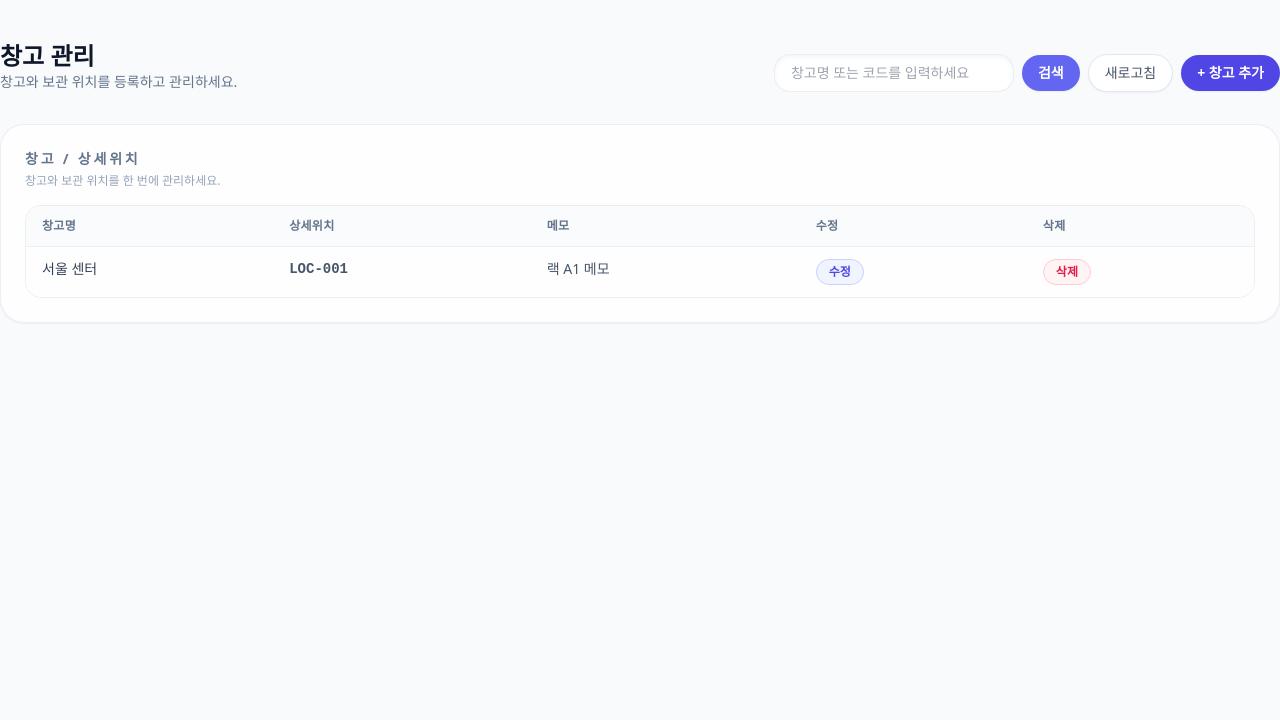
it: WarehouseManagementPanel - 수정 동작 › shows validation errors inline when required fields are cleared
The image size is (1280, 720).
Check: the text "LOC-001" is shown, box [289,261,348,277]
Click the button "수정" at coordinates (840, 272), box [816,259,864,285]
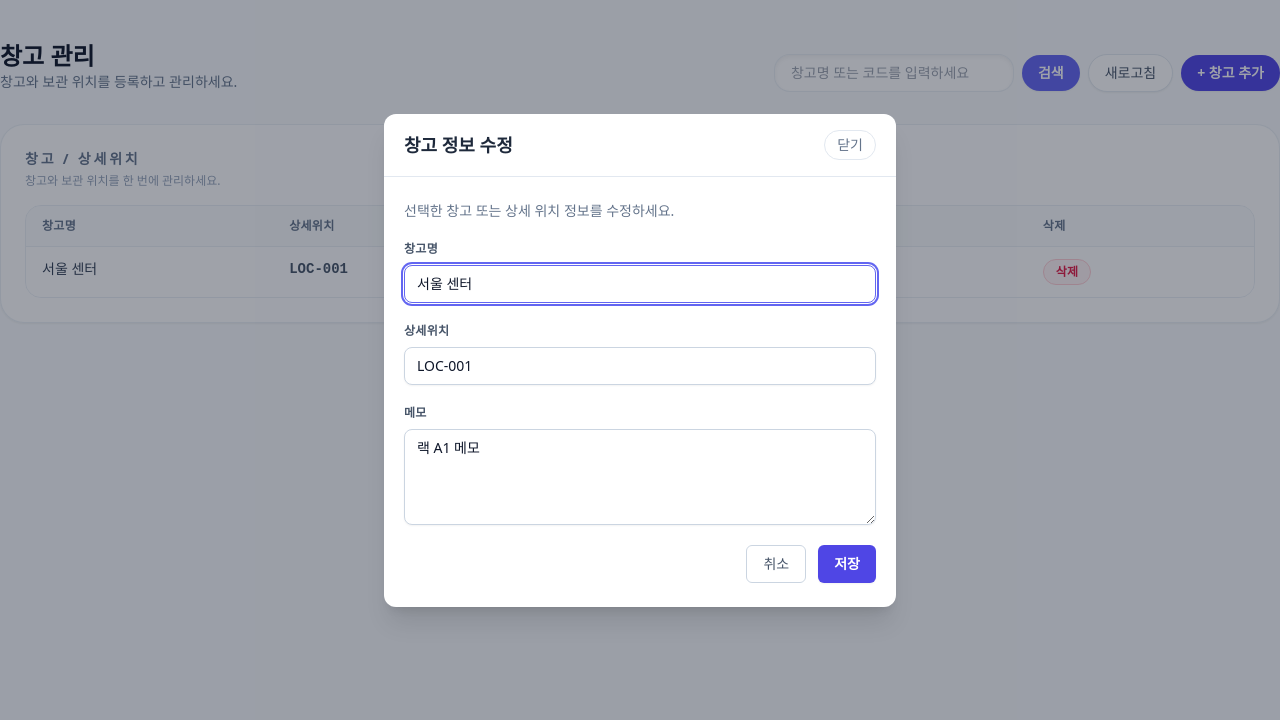
Check: the heading "창고 정보 수정" is shown, box [404,130,513,158]
Clear the text box labelled "메모" at coordinates (640, 476), box [404,428,876,524]
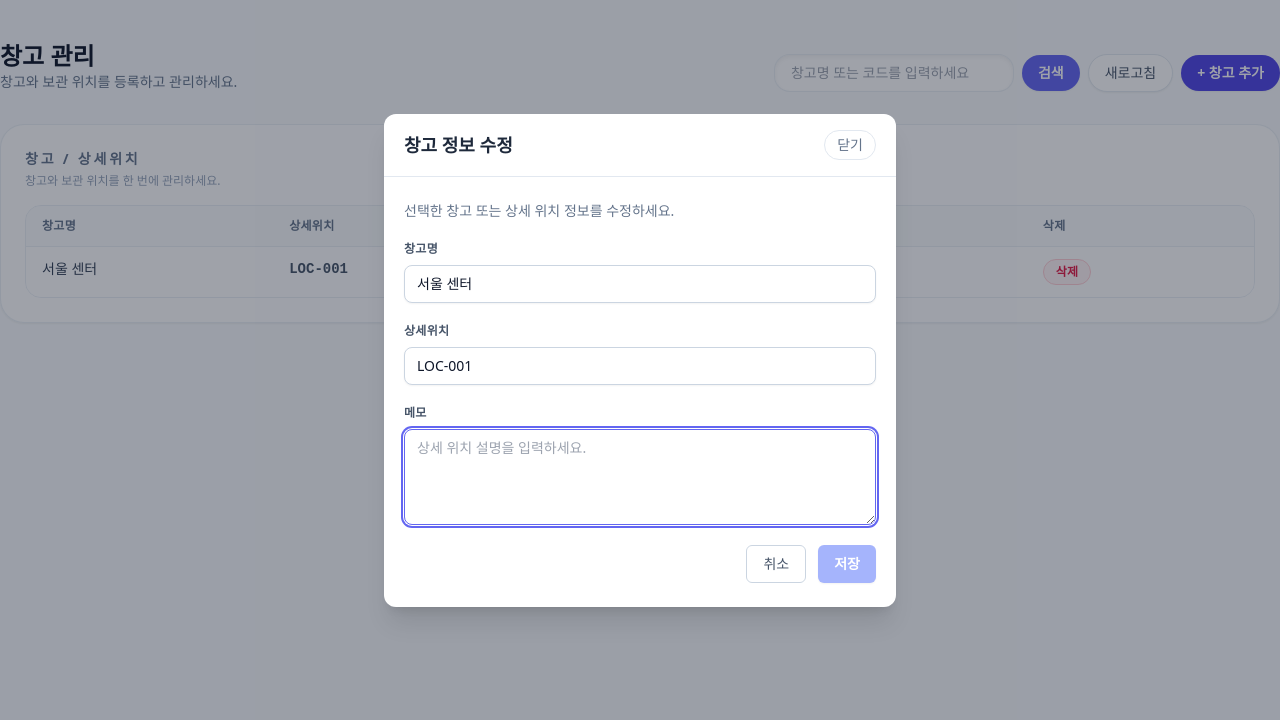
Press Tab
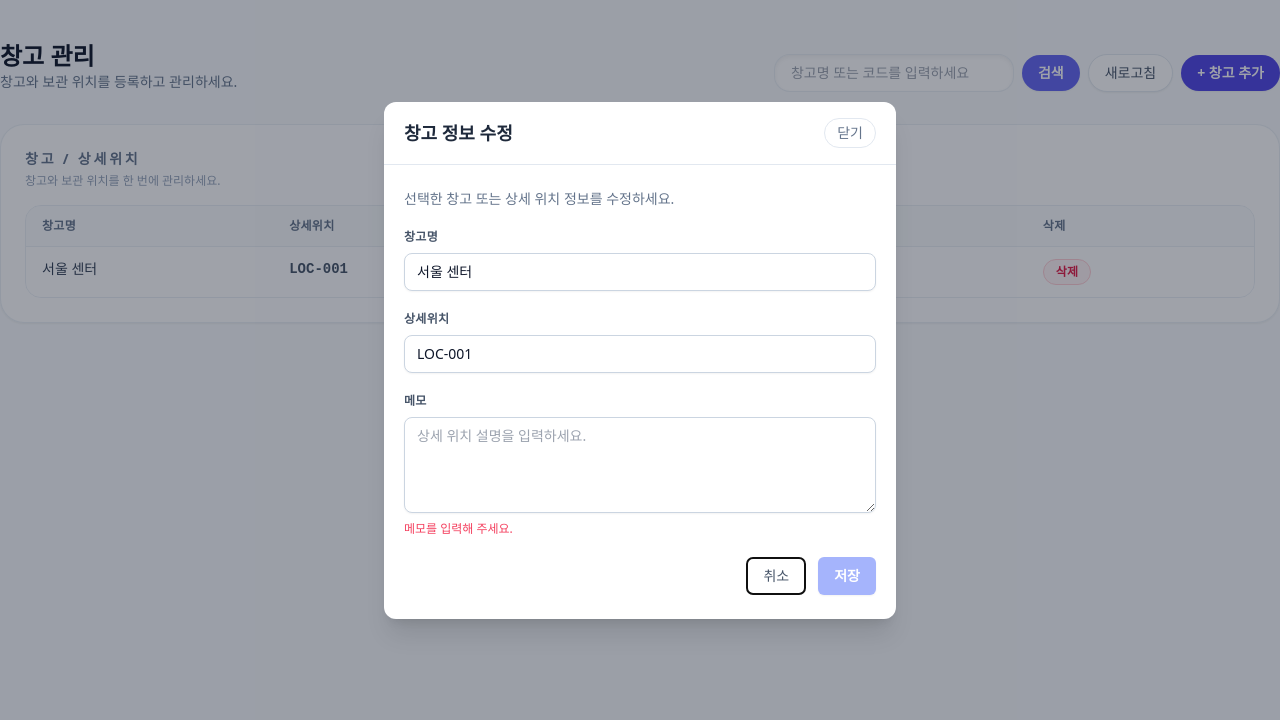
Check: the button "저장" is disabled, box [818,556,876,594]
Check: the text "메모를 입력해 주세요." is shown, box [404,520,513,536]
